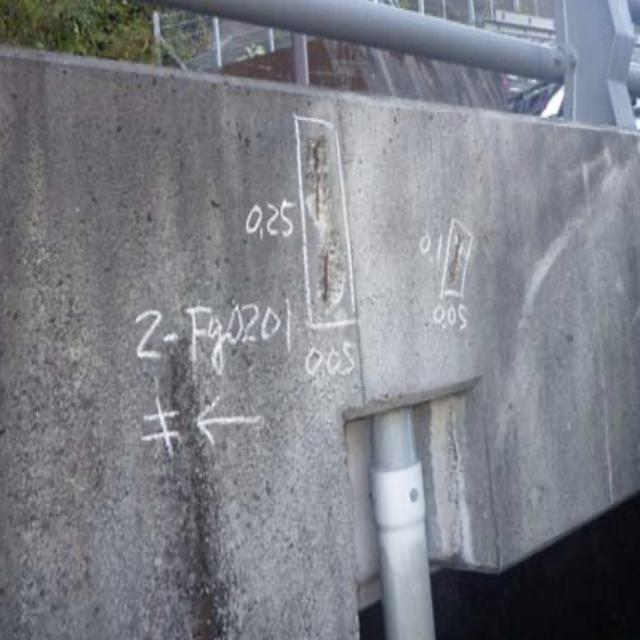freelime: (293, 117, 366, 334), (434, 211, 476, 300)
